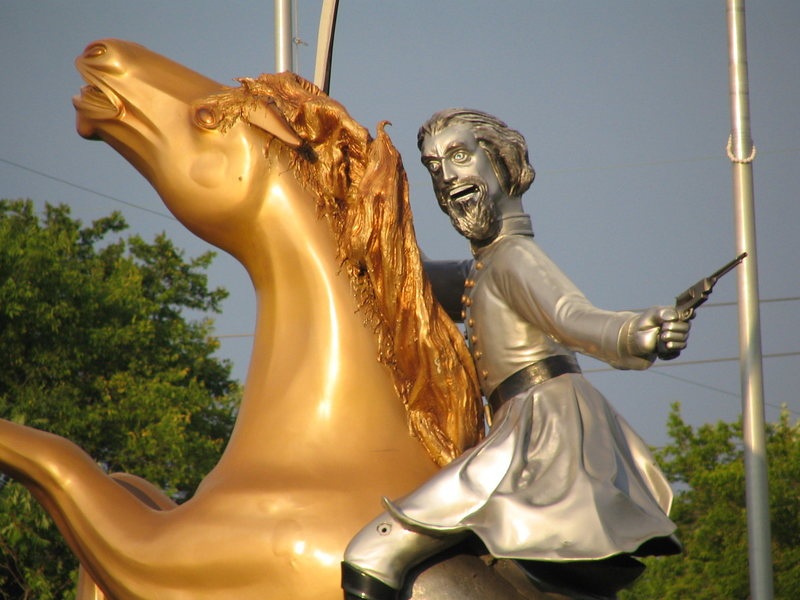person-like: (334, 103, 695, 600)
